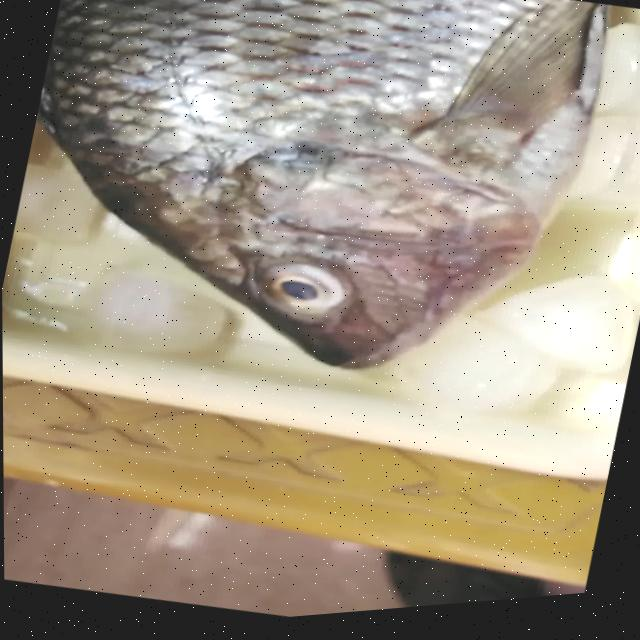Fresh: (16, 0, 562, 311), (209, 234, 379, 360)
